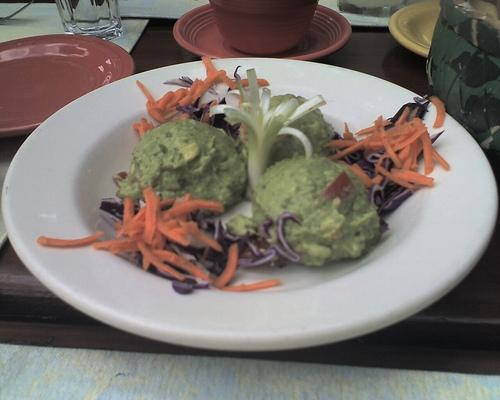carrot: (142, 250, 212, 284), (138, 240, 186, 280), (156, 196, 191, 246), (209, 242, 238, 288), (190, 70, 226, 104), (374, 163, 420, 189), (37, 231, 104, 247), (166, 200, 224, 218), (379, 127, 403, 168), (391, 126, 428, 152), (93, 232, 144, 250), (116, 207, 146, 237), (142, 187, 157, 246), (188, 228, 222, 253), (390, 168, 434, 186), (220, 279, 280, 292), (326, 140, 364, 160), (420, 130, 434, 176), (136, 80, 158, 106), (354, 120, 392, 135), (429, 96, 446, 127), (324, 140, 384, 148), (146, 100, 165, 122), (108, 242, 140, 255), (432, 146, 450, 169), (400, 141, 414, 170), (157, 91, 175, 112), (172, 220, 198, 234), (234, 78, 270, 88), (169, 88, 186, 108), (394, 106, 410, 127), (410, 138, 419, 172), (201, 57, 218, 75), (124, 196, 134, 224), (397, 144, 410, 164), (352, 164, 370, 178), (373, 115, 382, 142), (188, 79, 202, 96), (154, 228, 164, 250), (342, 122, 354, 140), (177, 95, 193, 107), (179, 114, 190, 120), (209, 100, 217, 108), (144, 122, 151, 128), (200, 103, 207, 108)
